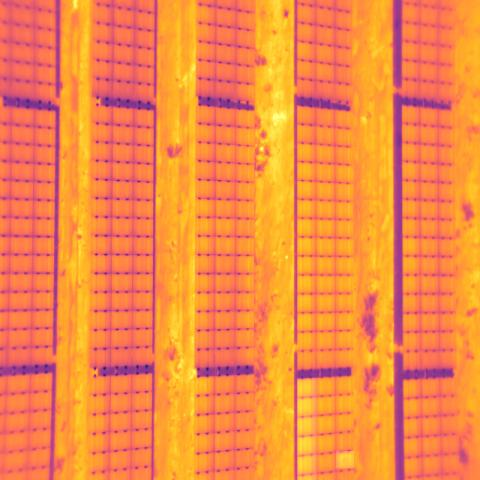fault: (297, 378, 317, 480), (336, 451, 354, 468)
